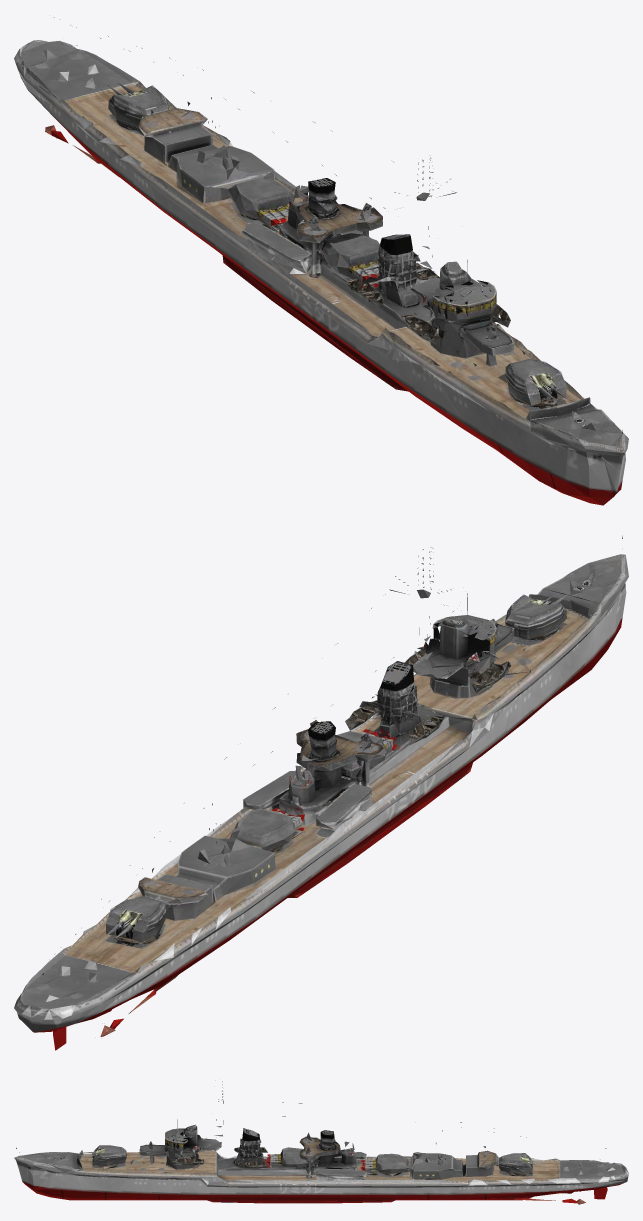
File: realistic-by.b0221350601e.destroyer.glb
The picture shows the model from 3 angles, top to bottom: view 1: azimuth 30°, elevation 25°; view 2: azimuth 150°, elevation 25°; view 3: azimuth 270°, elevation 25°; orthographic projection. The views are drawn at different scales.
Visible parts, largest first — view 1: destroyer; view 2: destroyer; view 3: destroyer.
Part boxes in pixels (<box>): destroyer: <box>14,17,628,505</box>; destroyer: <box>14,535,628,1050</box>; destroyer: <box>14,1081,628,1204</box>.
Bounding box in the file's own units: 11.08 × 23.8 × 111.
2 materials, 2 textured.
